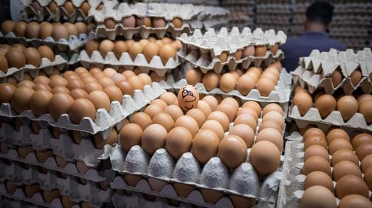egg: (216, 132, 250, 166), (251, 140, 285, 173), (165, 121, 195, 157), (299, 168, 336, 196), (68, 94, 98, 127), (299, 183, 337, 208), (193, 128, 219, 162), (27, 87, 58, 113), (298, 154, 333, 177), (144, 122, 167, 156), (314, 90, 339, 121), (117, 120, 143, 149), (9, 79, 34, 109), (29, 141, 58, 165), (300, 144, 333, 164), (176, 83, 201, 109), (330, 159, 364, 178), (227, 122, 256, 144), (50, 91, 73, 116), (198, 118, 226, 137), (256, 127, 286, 144), (128, 109, 154, 127), (302, 124, 330, 140), (175, 114, 202, 130), (301, 134, 328, 149), (153, 111, 175, 129), (143, 38, 161, 59), (52, 21, 70, 41), (261, 109, 284, 124), (233, 112, 258, 125), (214, 102, 237, 116), (240, 41, 256, 60), (237, 106, 258, 118), (145, 103, 162, 111)
